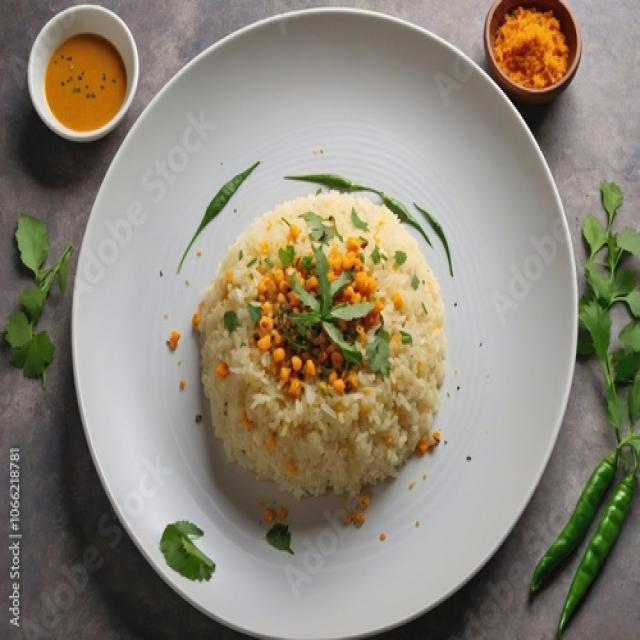UPMA: (193, 192, 444, 525)
